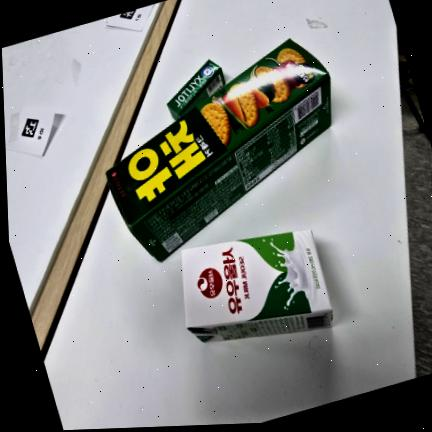cracker_vege: (105, 38, 332, 263)
gum_green: (167, 59, 225, 119)
milk_green: (181, 229, 332, 341)
